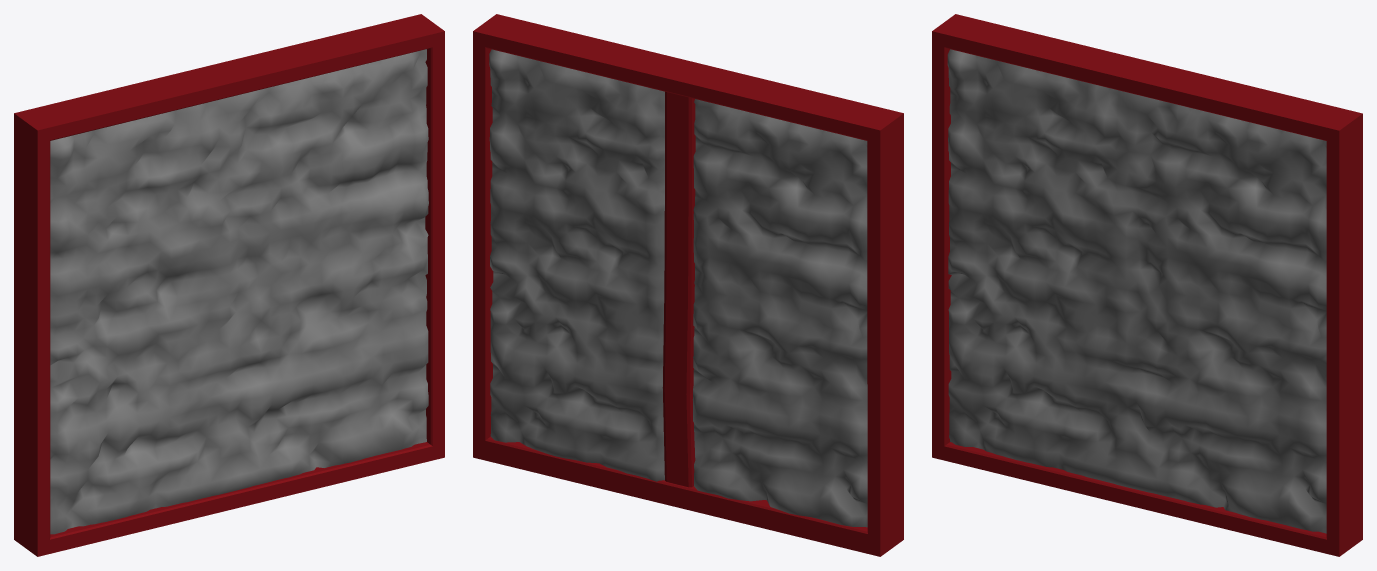
The model's file is SM_MH_01_Stone_Wall_03.fbx.
The picture shows the model from 3 angles, left to right: view 1: azimuth 30°, elevation 25°; view 2: azimuth 150°, elevation 25°; view 3: azimuth 330°, elevation 25°; orthographic projection.
Visible parts, largest first — view 1: SM_MH_01_Stone_Wall_03_LOD0; view 2: SM_MH_01_Stone_Wall_03_LOD0; view 3: SM_MH_01_Stone_Wall_03_LOD0.
Part boxes in pixels (x1,y1,x2,y2): SM_MH_01_Stone_Wall_03_LOD0: (14,14,444,556); SM_MH_01_Stone_Wall_03_LOD0: (473,14,903,556); SM_MH_01_Stone_Wall_03_LOD0: (932,14,1362,556).
Size of what is drawn, in the model's own units: 300 by 300 by 37.46.
